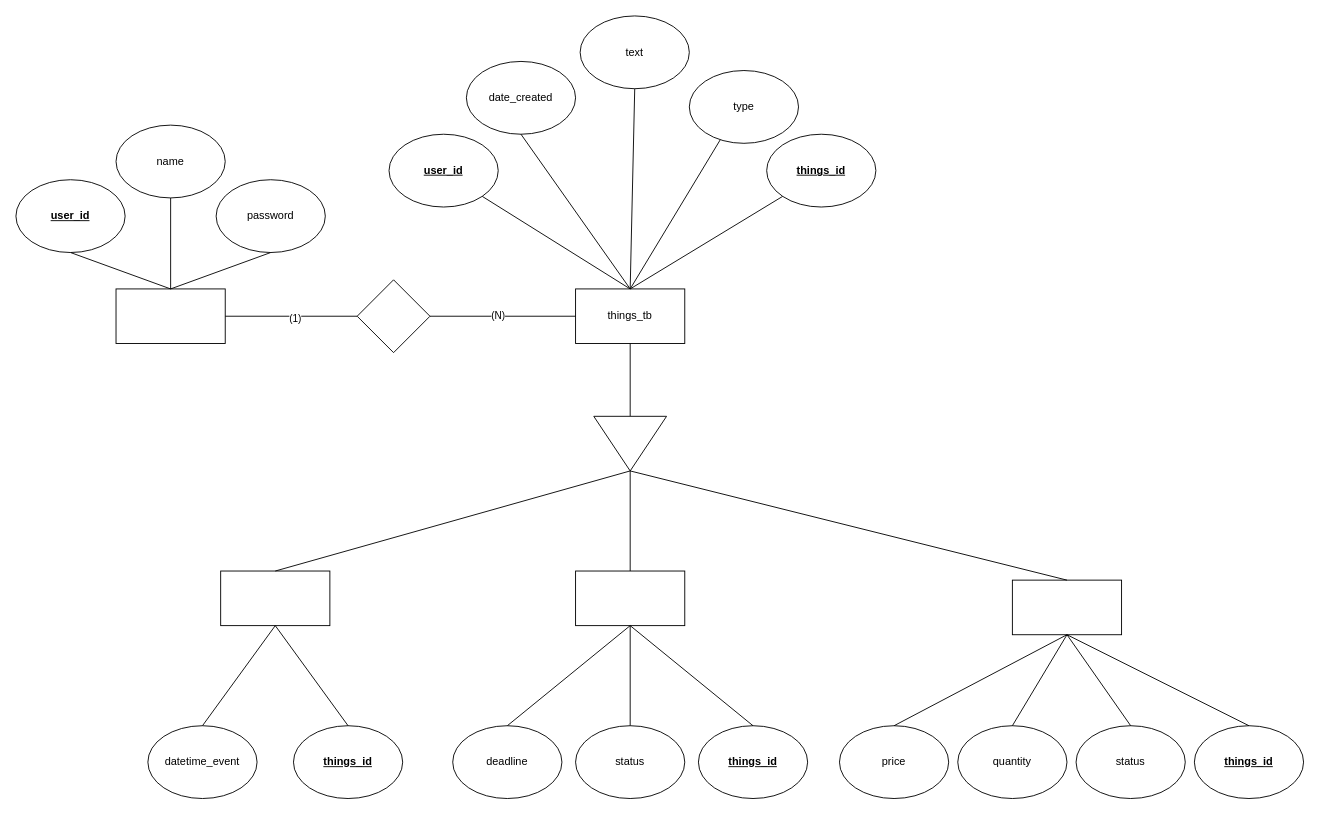
This 1320x814 diagram has some shape labels left out. Each missing label, with the centre of its shape:
"event_data_tb" goes at (275,598).
"Is A" goes at (630,443).
"shoping_data_tb" goes at (1066,607).
"todo_data_tb" goes at (630,598).
"user_tb" goes at (170,316).
"write a" goes at (393,316).
